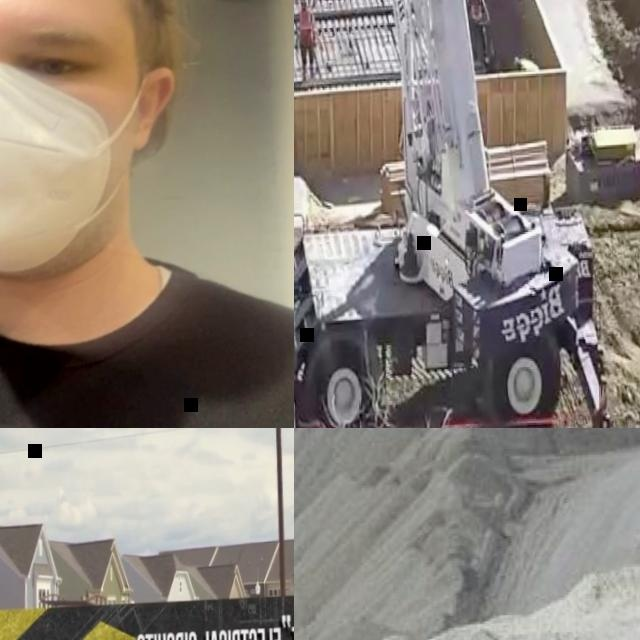NO-Mask: (0, 63, 160, 282)
NO-Safety Vest: (0, 243, 294, 428)
Person: (0, 0, 294, 428), (294, 0, 317, 79), (465, 0, 491, 67)
Safety Vest: (298, 9, 314, 35), (470, 0, 482, 20)
machinery: (294, 0, 617, 428)
